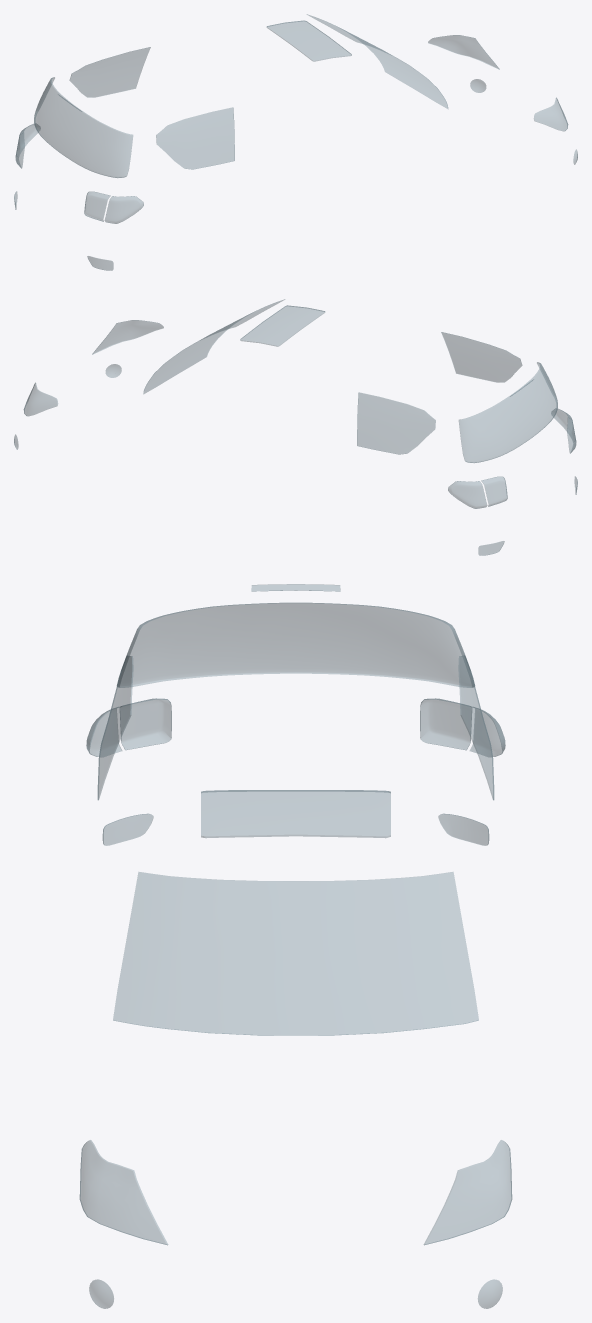
3 views of the same model, one above another, from view 1: azimuth 30°, elevation 25°; view 2: azimuth 150°, elevation 25°; view 3: azimuth 270°, elevation 25° (orthographic). The views are drawn at different scales.
Visible parts, largest first — view 1: SM_NissanPatrol_Glass_Ext1; view 2: SM_NissanPatrol_Glass_Ext1; view 3: SM_NissanPatrol_Glass_Ext1.
Boxes of the visible parts, left/top/right/bottom form: SM_NissanPatrol_Glass_Ext1: left=14, top=14, right=577, bottom=270; SM_NissanPatrol_Glass_Ext1: left=14, top=299, right=577, bottom=555; SM_NissanPatrol_Glass_Ext1: left=79, top=584, right=512, bottom=1308.
Bounding box in the file's own units: 5.27 × 1.5 × 2.05.
